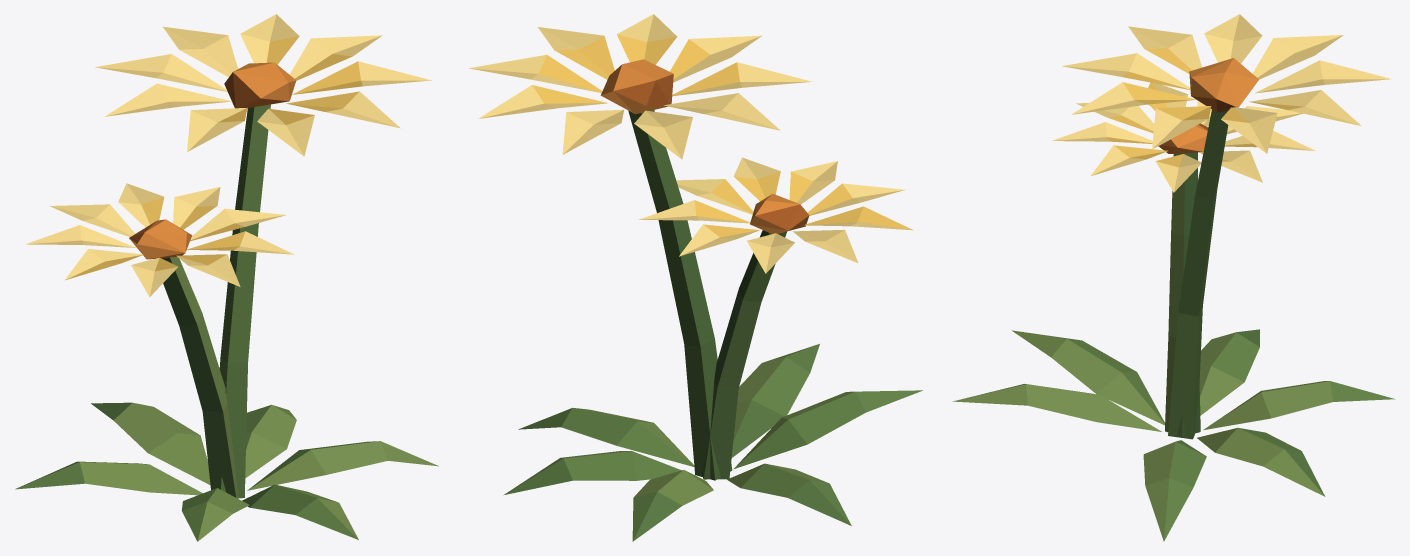
Rendered from flower_yellowB.glb.
3 renders of one model, left to right at view 1: azimuth 30°, elevation 25°; view 2: azimuth 150°, elevation 25°; view 3: azimuth 270°, elevation 25°, orthographic. The views are drawn at different scales.
Visible parts, largest first — view 1: flower_yellowB.002; view 2: flower_yellowB.002; view 3: flower_yellowB.002.
Part boxes in pixels (box(x1,y1,x2,y2)): flower_yellowB.002: box(15, 14, 438, 541); flower_yellowB.002: box(469, 14, 922, 541); flower_yellowB.002: box(952, 14, 1395, 541).
Bounding box in the file's own units: 0.5314 × 0.55 × 0.5454.
